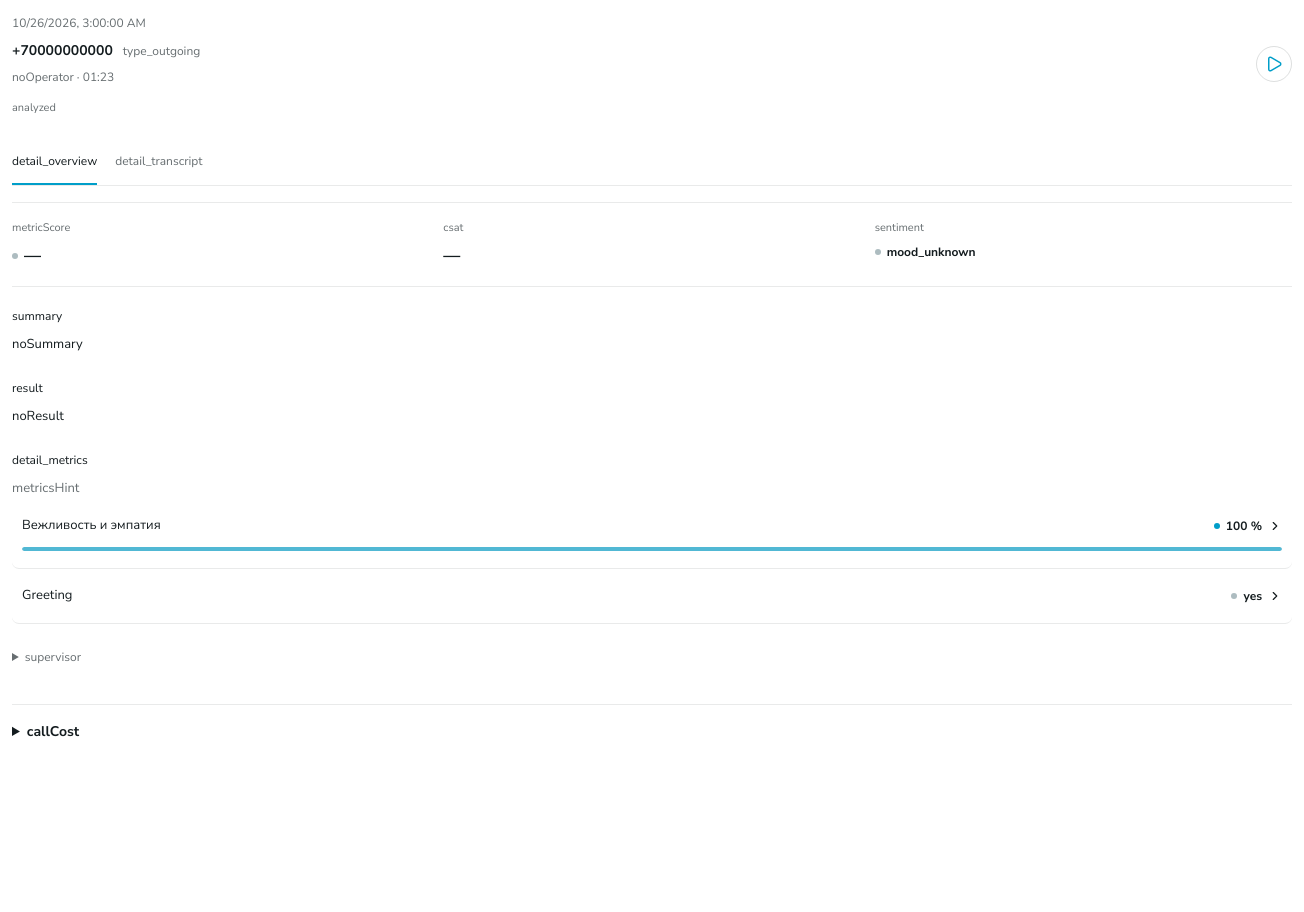
keeps metrics, supervisor and customer costs in overview, with no Data tab or admin actions for clients
This screenshot has width=1304, height=912.
Expected: the heading "detail_metrics" is shown, [12,452,88,468]
Expected: the heading "supervisor" is shown, [25,649,81,665]
Click the tab "detail_transcript".
click(159, 162)  # box [115,138,202,184]
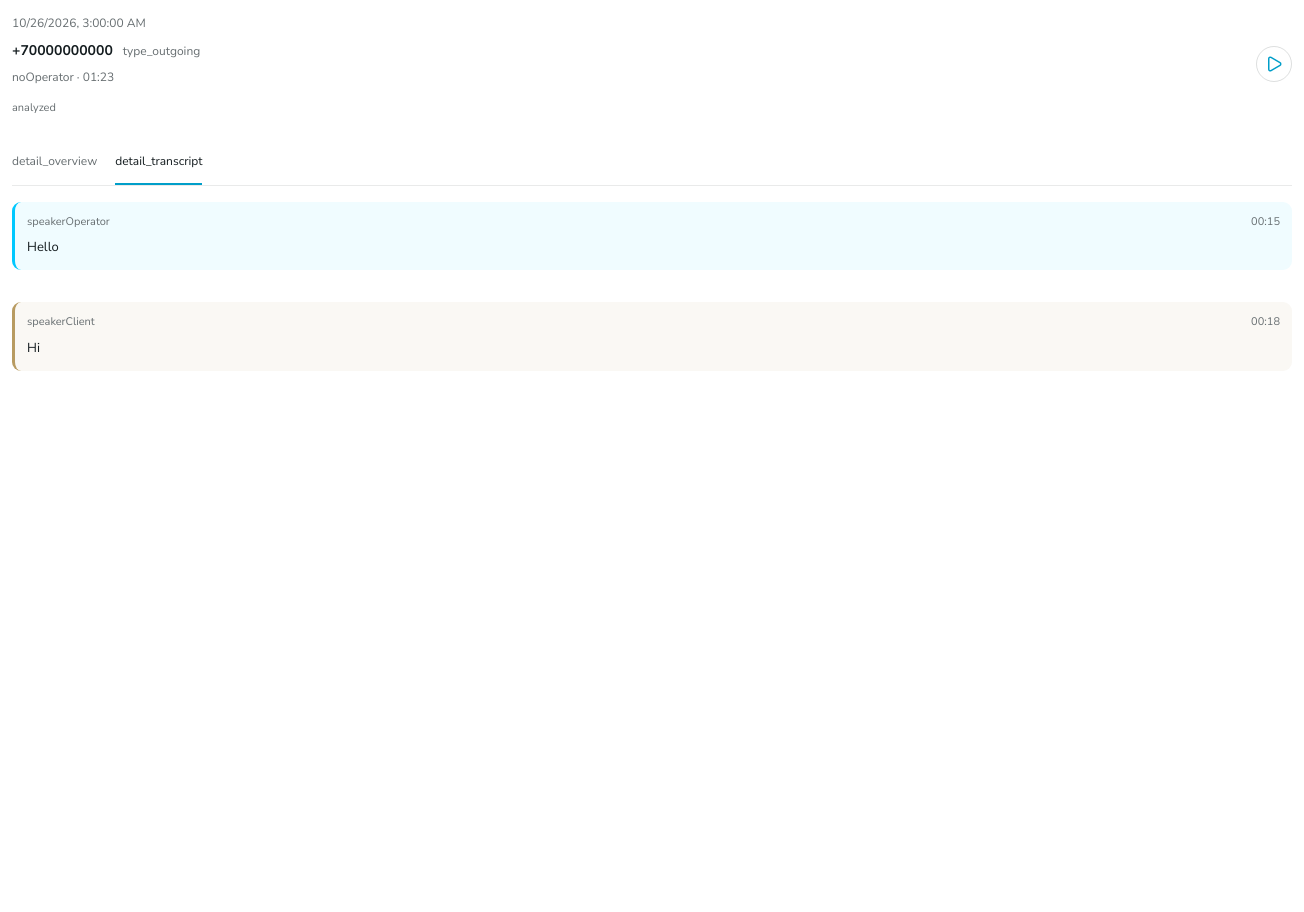
Now the text "00:15" is shown, box [1251,214,1280,230]
